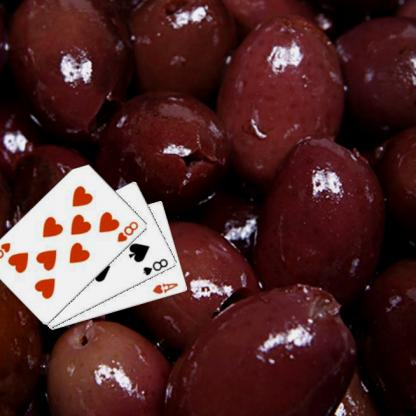8H: (116, 218, 142, 244), (0, 240, 14, 264)
8S: (142, 256, 172, 276)
AH: (152, 280, 181, 296)
